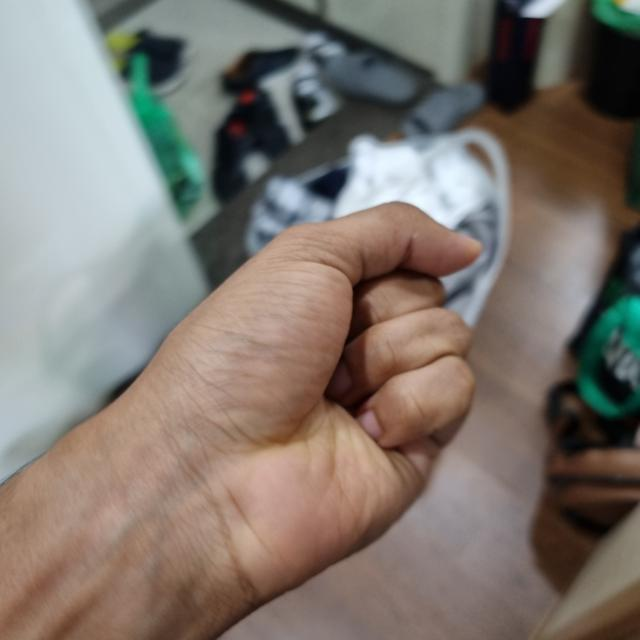Rock: (1, 199, 482, 638)
